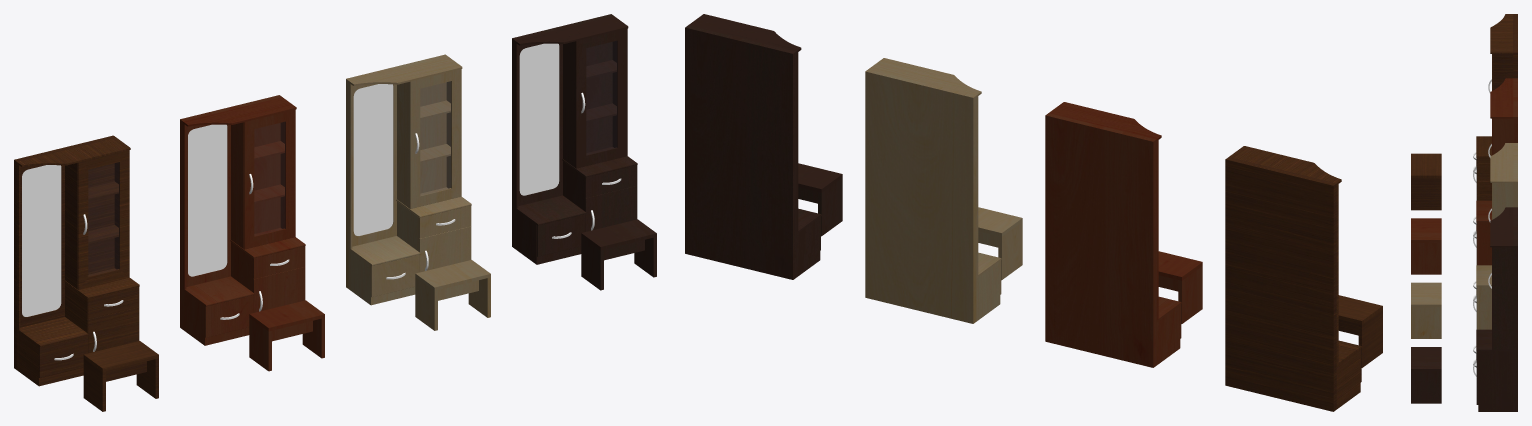
Rendered from dressing_table_set.glb.
The picture shows the model from 3 angles, left to right: view 1: azimuth 30°, elevation 25°; view 2: azimuth 150°, elevation 25°; view 3: azimuth 270°, elevation 25°; orthographic projection. The views are drawn at different scales.
Visible parts, largest first — view 1: Dressing Table 01-A_2, Dressing Table 01-B_4, Dressing Table 01-D_8, Dressing Table 01-C_6, Dressing Table Stool 01-D_9, Dressing Table Stool 01-C_7, Dressing Table Stool 01-B_5, Dressing Table Stool 01-A_3; view 2: Dressing Table 01-A_2, Dressing Table 01-B_4, Dressing Table 01-C_6, Dressing Table 01-D_8, Dressing Table Stool 01-B_5, Dressing Table Stool 01-A_3, Dressing Table Stool 01-C_7, Dressing Table Stool 01-D_9; view 3: Dressing Table 01-D_8, Dressing Table 01-C_6, Dressing Table 01-B_4, Dressing Table 01-A_2, Dressing Table Stool 01-A_3, Dressing Table Stool 01-B_5, Dressing Table Stool 01-C_7, Dressing Table Stool 01-D_9.
Part boxes in pixels (box(x1,y1,x2,y2)): Dressing Table 01-A_2: box(14, 135, 139, 386); Dressing Table 01-B_4: box(180, 95, 305, 345); Dressing Table 01-D_8: box(512, 14, 637, 264); Dressing Table 01-C_6: box(346, 54, 471, 305); Dressing Table Stool 01-D_9: box(581, 219, 656, 290); Dressing Table Stool 01-C_7: box(415, 260, 490, 330); Dressing Table Stool 01-B_5: box(249, 300, 324, 371); Dressing Table Stool 01-A_3: box(83, 341, 158, 411); Dressing Table 01-A_2: box(1225, 146, 1361, 411); Dressing Table 01-B_4: box(1045, 102, 1181, 367); Dressing Table 01-C_6: box(865, 58, 1001, 323); Dressing Table 01-D_8: box(685, 14, 821, 279); Dressing Table Stool 01-B_5: box(1158, 251, 1202, 323); Dressing Table Stool 01-A_3: box(1338, 295, 1382, 367); Dressing Table Stool 01-C_7: box(978, 207, 1022, 280); Dressing Table Stool 01-D_9: box(798, 163, 842, 236); Dressing Table 01-D_8: box(1473, 207, 1517, 411); Dressing Table 01-C_6: box(1473, 143, 1517, 329); Dressing Table 01-B_4: box(1473, 78, 1517, 265); Dressing Table 01-A_2: box(1473, 14, 1517, 200); Dressing Table Stool 01-A_3: box(1411, 153, 1441, 210); Dressing Table Stool 01-B_5: box(1411, 218, 1441, 274); Dressing Table Stool 01-C_7: box(1411, 282, 1441, 338); Dressing Table Stool 01-D_9: box(1411, 347, 1441, 403).
Bounding box in the file's own units: 3.6 × 1.2 × 0.7.
Materials: 7 (4 with a texture image).
